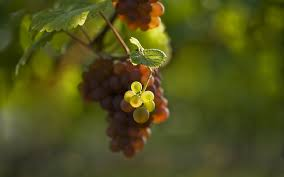grapes: (120, 82, 158, 126)
